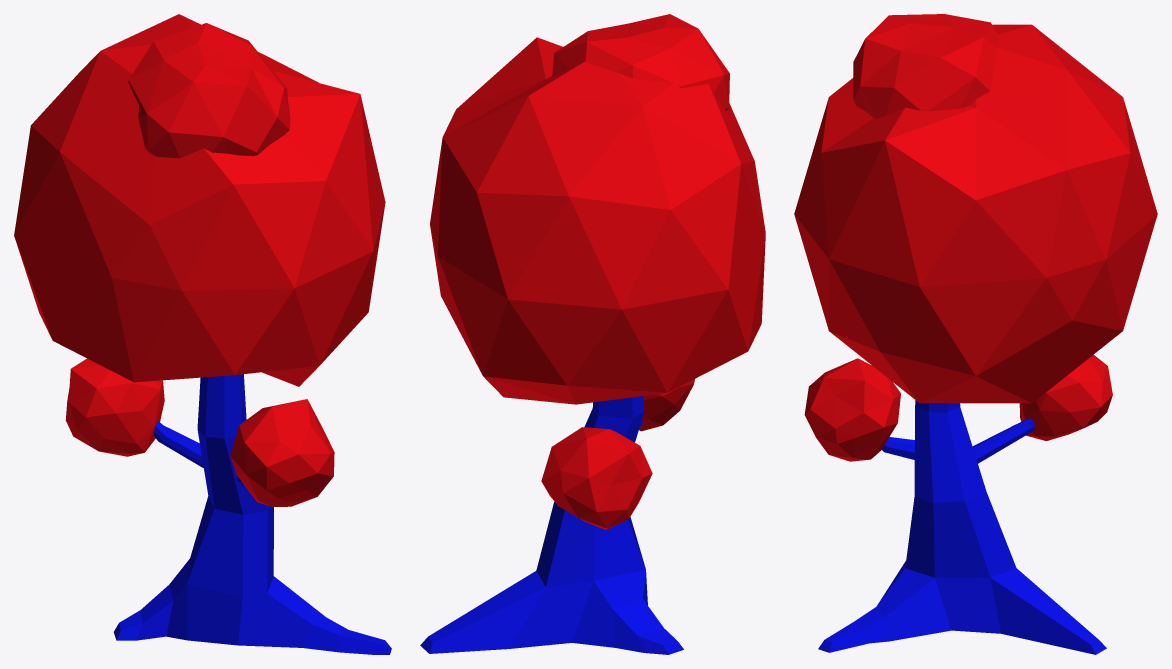
Rendered from SM_Broadleaf2.fbx.
3 renders of one model, left to right at view 1: azimuth 30°, elevation 25°; view 2: azimuth 150°, elevation 25°; view 3: azimuth 270°, elevation 25°, orthographic. The views are drawn at different scales.
Visible parts, largest first — view 1: SM_Broadleaf2; view 2: SM_Broadleaf2; view 3: SM_Broadleaf2.
Boxes of the visible parts, x1,y1,x2,y2 form: SM_Broadleaf2: (14,14,391,654); SM_Broadleaf2: (420,14,765,654); SM_Broadleaf2: (794,14,1157,654).
Size of the model in its own units: 190 by 344 by 200.
